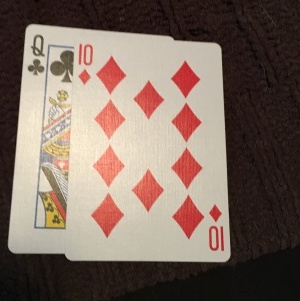card: (69, 38, 231, 263), (7, 22, 75, 254)
